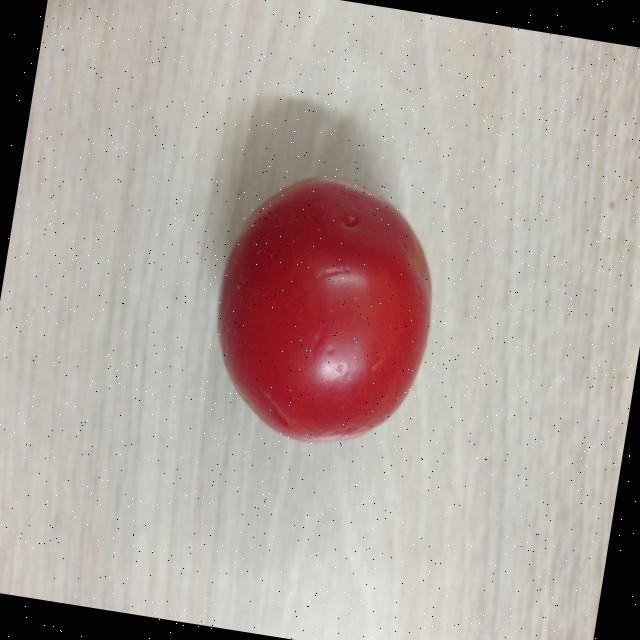Ripe: (195, 160, 452, 460)
